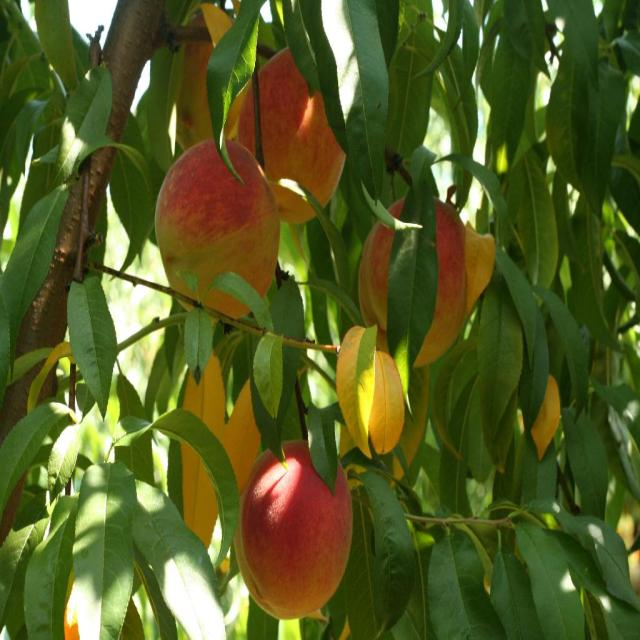Peach: (154, 138, 279, 324), (228, 45, 348, 227), (234, 442, 350, 624), (356, 196, 466, 372), (170, 11, 249, 147)
